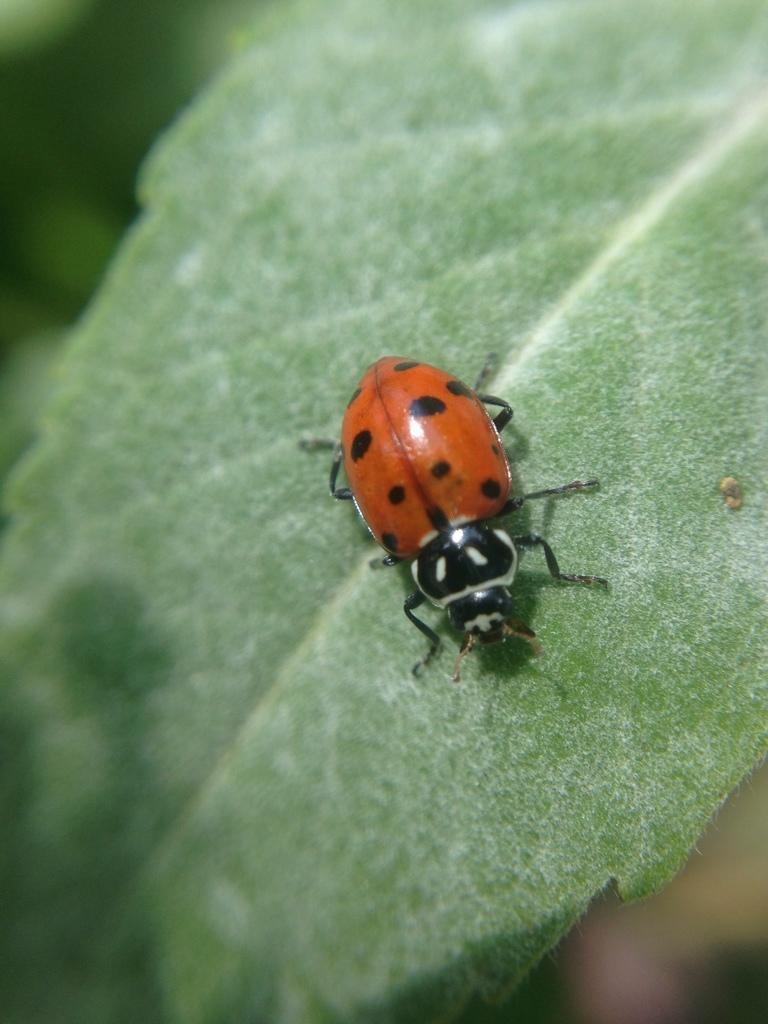ladybug: (299, 354, 619, 686)
